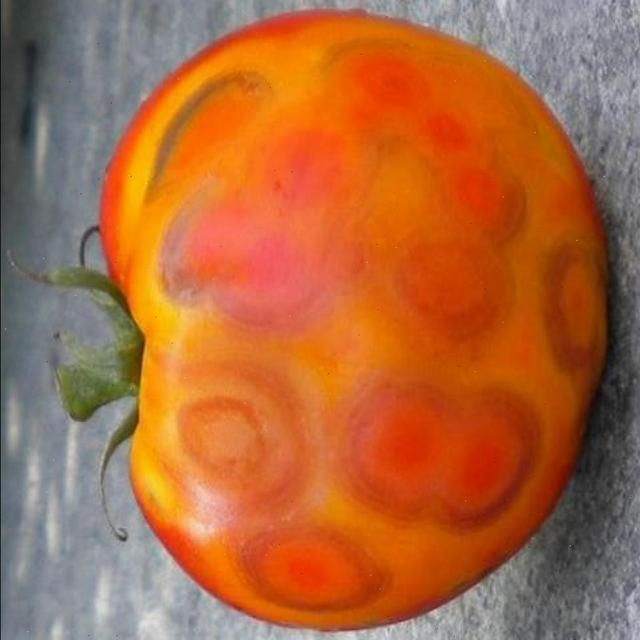Spotted wilt Virus Fruit: (62, 6, 404, 423)
